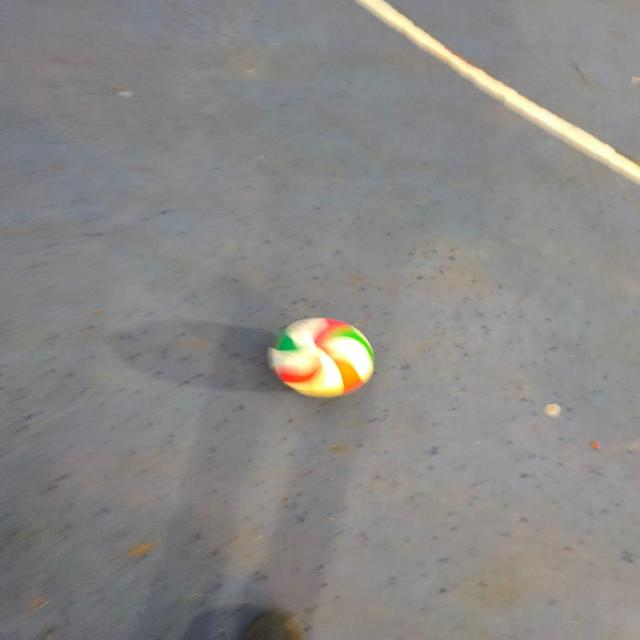volleyball: (269, 317, 375, 398)
